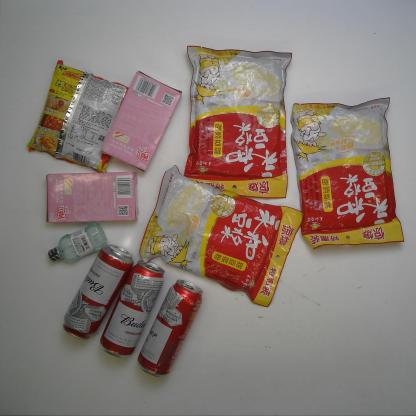Alcohol: (62, 243, 134, 340), (136, 278, 204, 378), (99, 260, 166, 358)
Dessert: (99, 70, 183, 174), (45, 170, 140, 224)
Instant Drink: (137, 164, 305, 308), (288, 96, 405, 250), (181, 44, 293, 198)
Instant Noodles: (26, 60, 130, 173)
Personal Hygiene: (47, 221, 108, 263)
